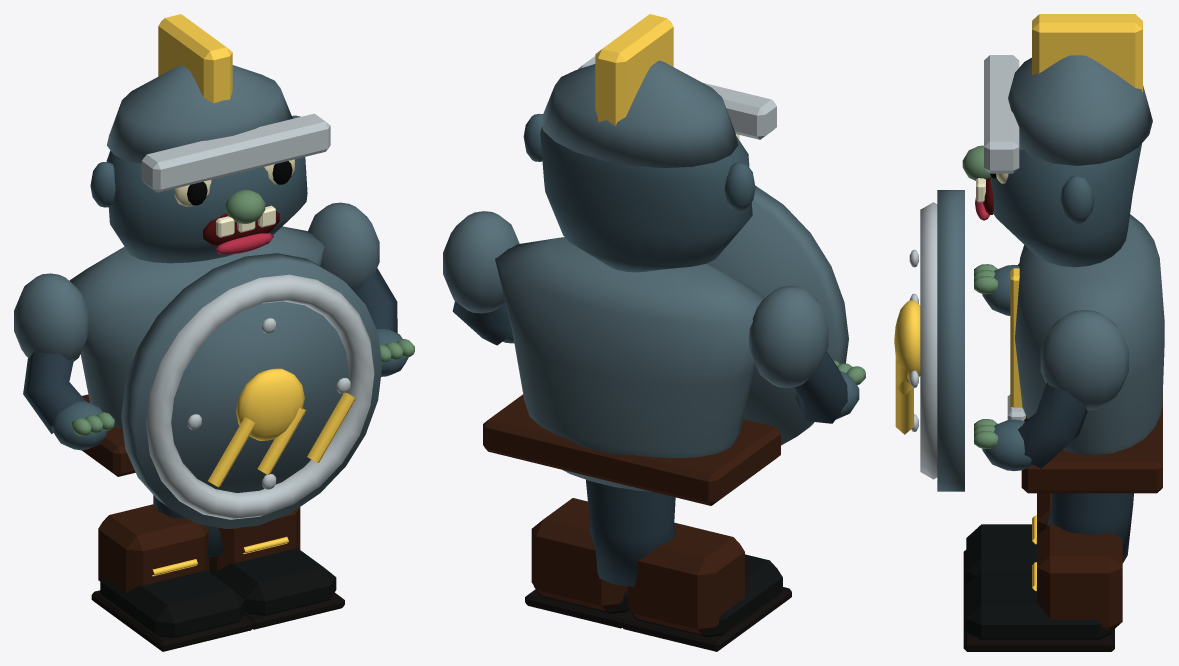
File: bulwark.glb
3 renders of one model, left to right at view 1: azimuth 30°, elevation 25°; view 2: azimuth 150°, elevation 25°; view 3: azimuth 270°, elevation 25°, orthographic. The views are drawn at different scales.
Parts seen in each view (by area): view 1: Arms, Head, LegL, Body, LegR; view 2: Body, Head, Arms, LegL, LegR; view 3: Head, Arms, Body, LegR, LegL.
Boxes of the visible parts, x1=… form: Arms: x1=14, y1=202, x2=414, y2=528; Head: x1=90, y1=14, x2=330, y2=263; LegL: x1=91, y1=495, x2=253, y2=651; Body: x1=69, y1=226, x2=324, y2=476; LegR: x1=174, y1=507, x2=344, y2=629; Body: x1=483, y1=237, x2=780, y2=505; Head: x1=523, y1=14, x2=776, y2=272; Arms: x1=443, y1=185, x2=865, y2=445; LegL: x1=589, y1=485, x2=791, y2=651; LegR: x1=525, y1=480, x2=631, y2=628; Head: x1=962, y1=14, x2=1152, y2=267; Arms: x1=894, y1=190, x2=1128, y2=491; Body: x1=1007, y1=214, x2=1164, y2=493; LegR: x1=963, y1=493, x2=1131, y2=651; LegL: x1=963, y1=493, x2=1133, y2=598.
Size of the model in its own units: 0.8909 by 1.28 by 0.5365.
Materials: 1 (1 with a texture image).
